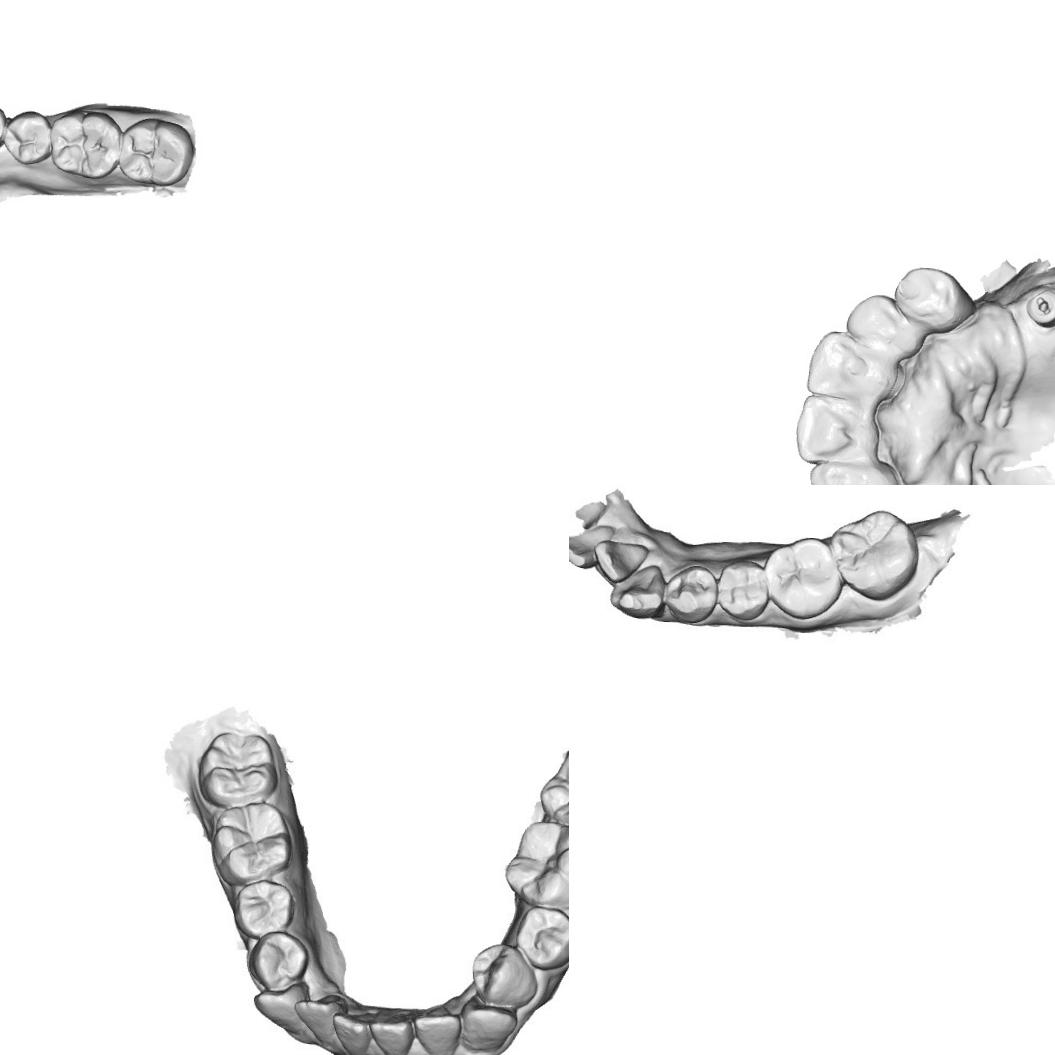canine: (890, 260, 970, 333), (607, 565, 669, 620), (254, 982, 317, 1036), (464, 1000, 520, 1054)
implant_minus: (1024, 286, 1055, 329)
incisor: (804, 332, 886, 401), (796, 395, 874, 467), (846, 293, 918, 357), (298, 991, 349, 1050), (592, 534, 652, 583), (809, 456, 907, 485), (333, 1008, 380, 1055), (371, 1011, 420, 1055), (415, 1012, 465, 1055), (569, 524, 613, 569)
molar: (830, 506, 922, 602), (762, 530, 841, 620), (210, 803, 297, 879), (117, 115, 198, 189), (48, 106, 122, 180), (200, 727, 274, 797), (506, 823, 569, 903), (535, 745, 569, 826)
premolar: (472, 942, 542, 1006), (716, 560, 770, 621), (663, 564, 716, 624), (515, 905, 569, 962), (1, 108, 53, 167), (238, 881, 294, 934), (250, 932, 304, 985)
